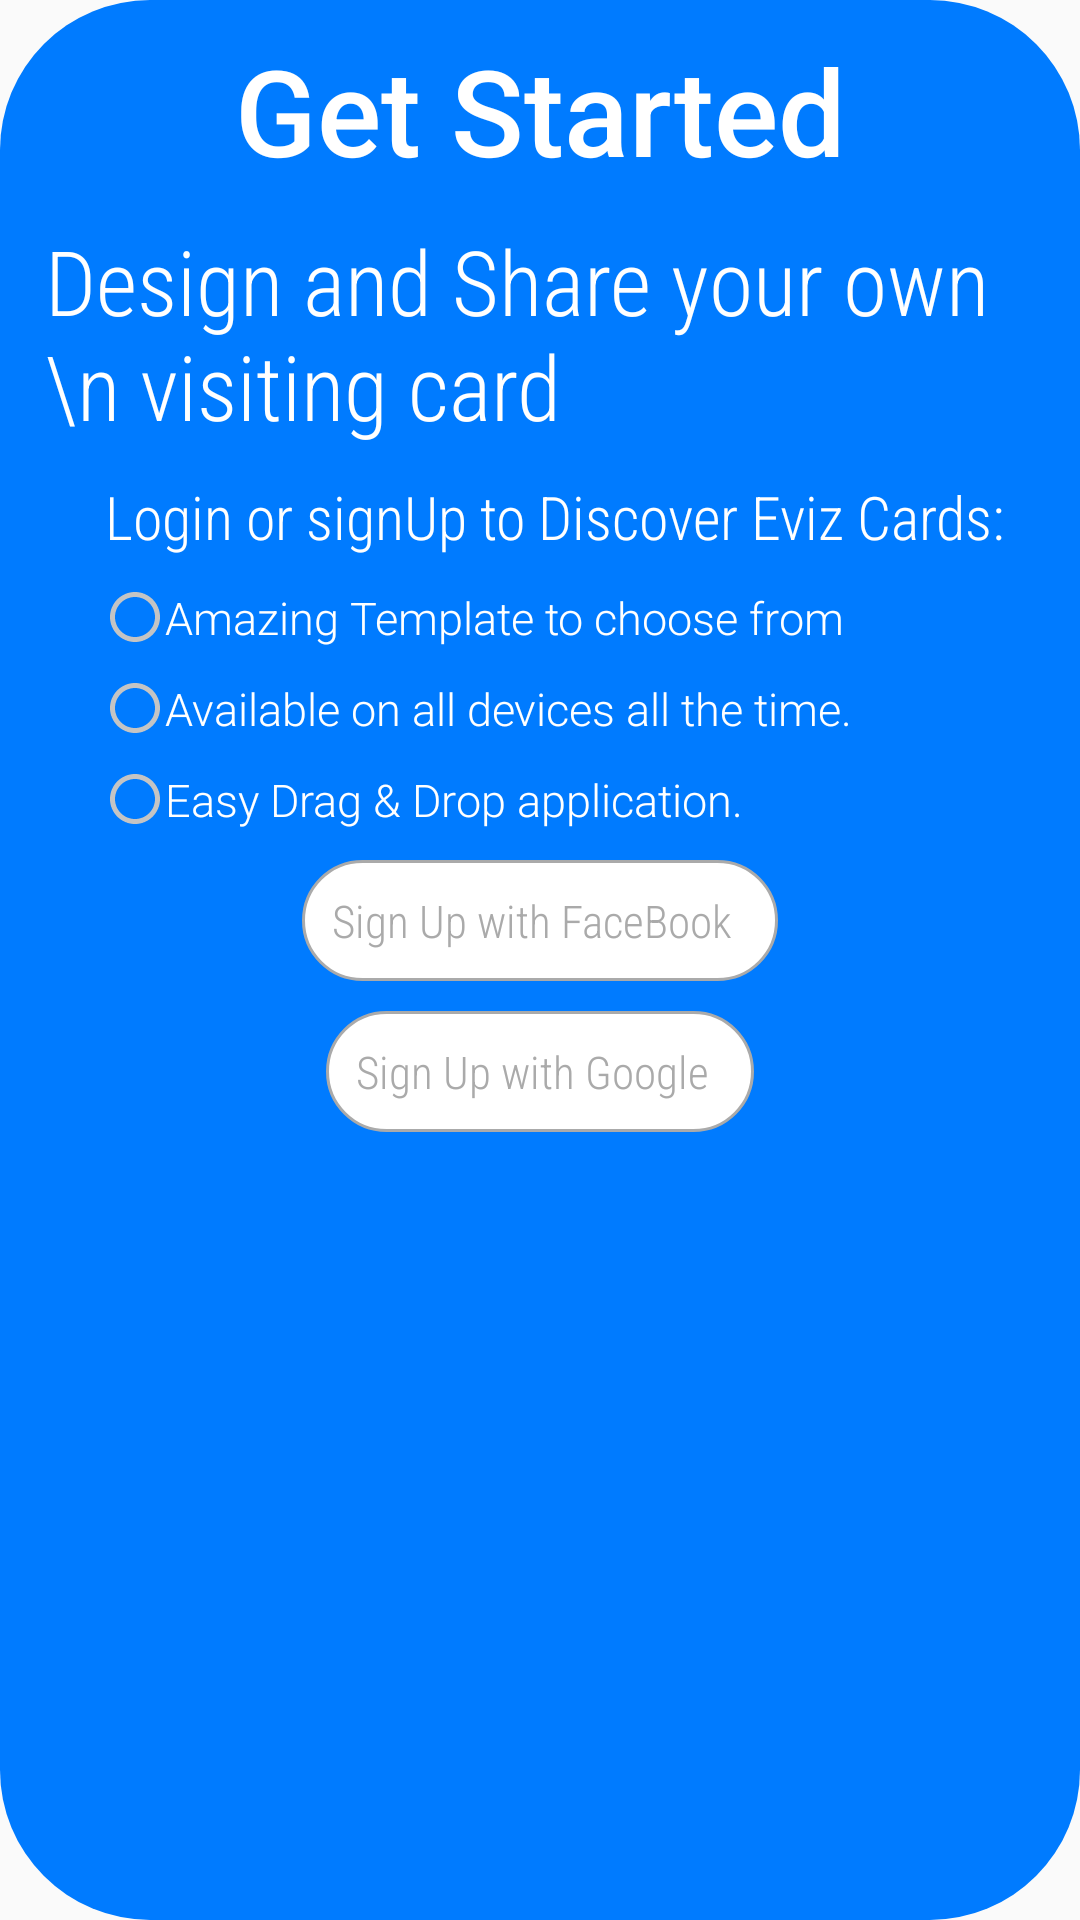

Icon click points for this 1080x1920 phone screenshot, format point (x, y):
radio unchecked: point (135, 617), point (135, 708), point (135, 799)
